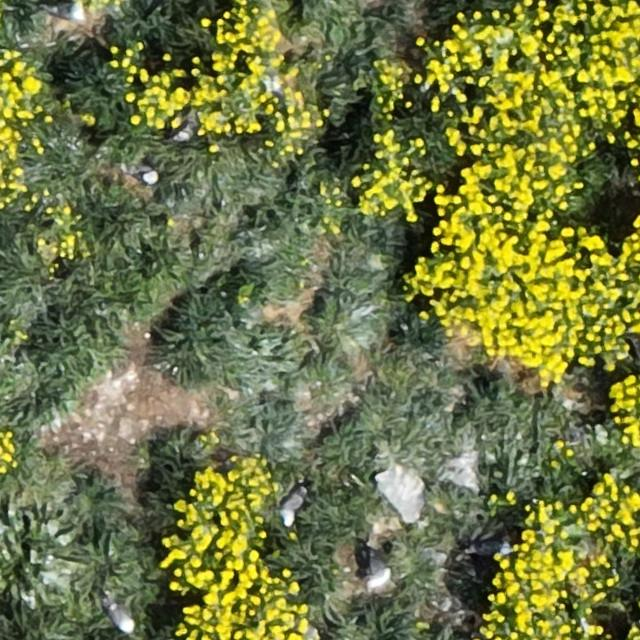umineko: (362, 555, 394, 591), (282, 488, 304, 524), (110, 604, 134, 634), (46, 4, 82, 22), (124, 165, 157, 184)
